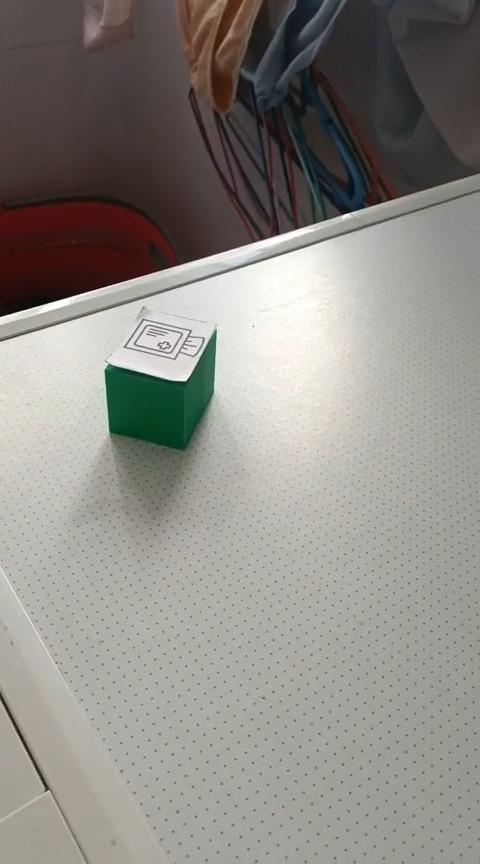Gauze: (103, 305, 217, 450)
